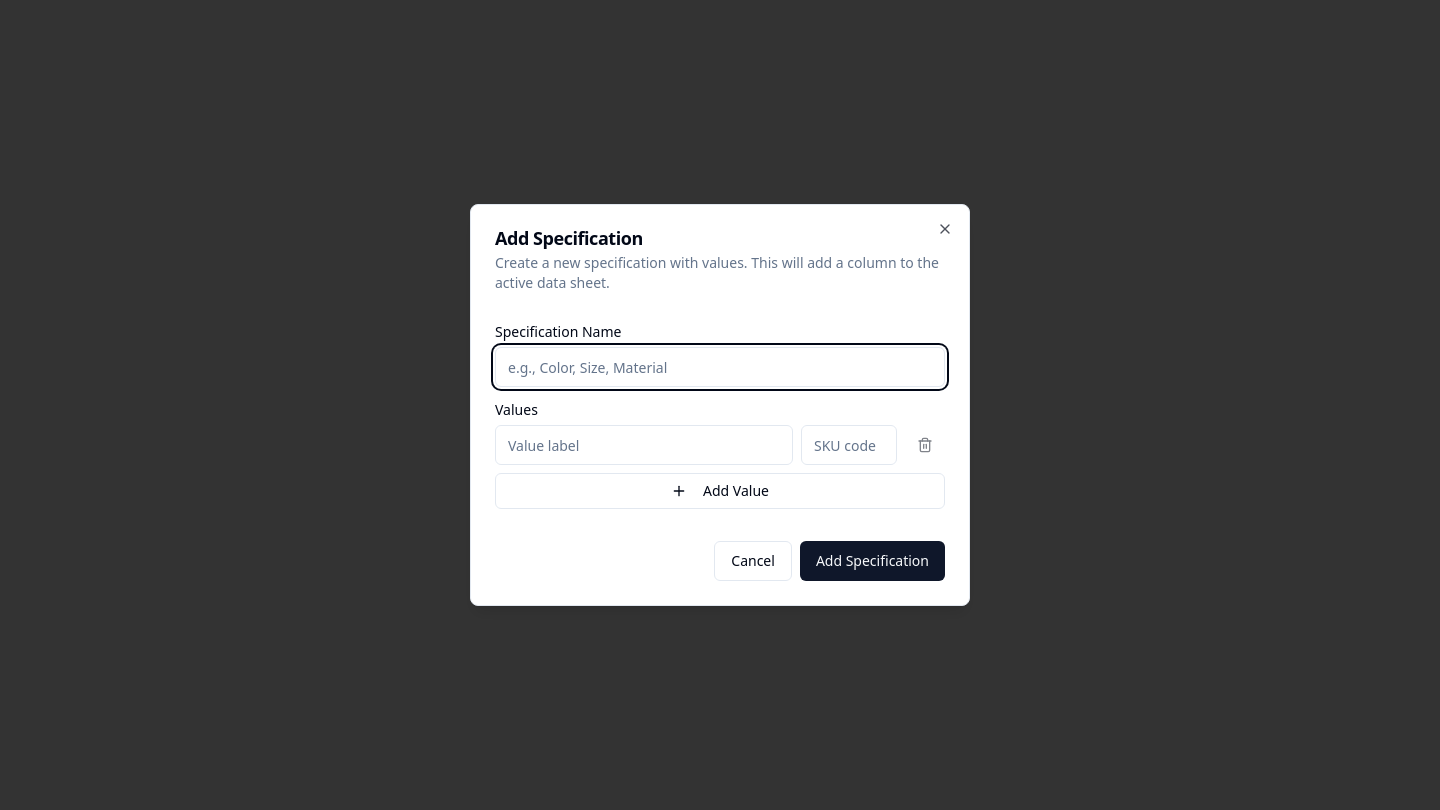
Test case: AddSpecDialog › shows error when specification name already exists
Step 1. Type "Color" into the field labelled "Specification Name" → (720, 367), box [495,347,945,387]
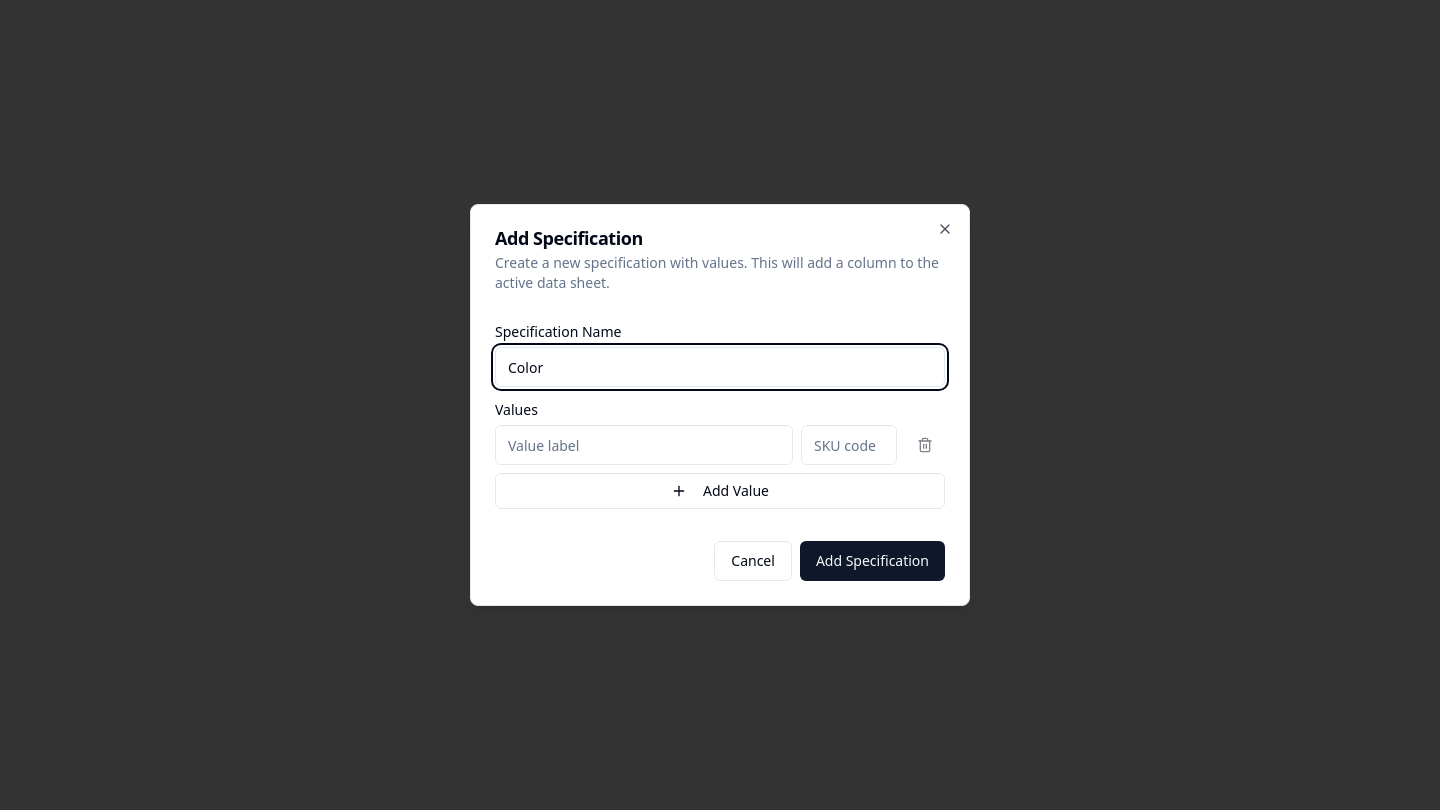
Step 2. Type "Blue" into the field named "Value 1 label" → (644, 445), box [495,425,793,465]
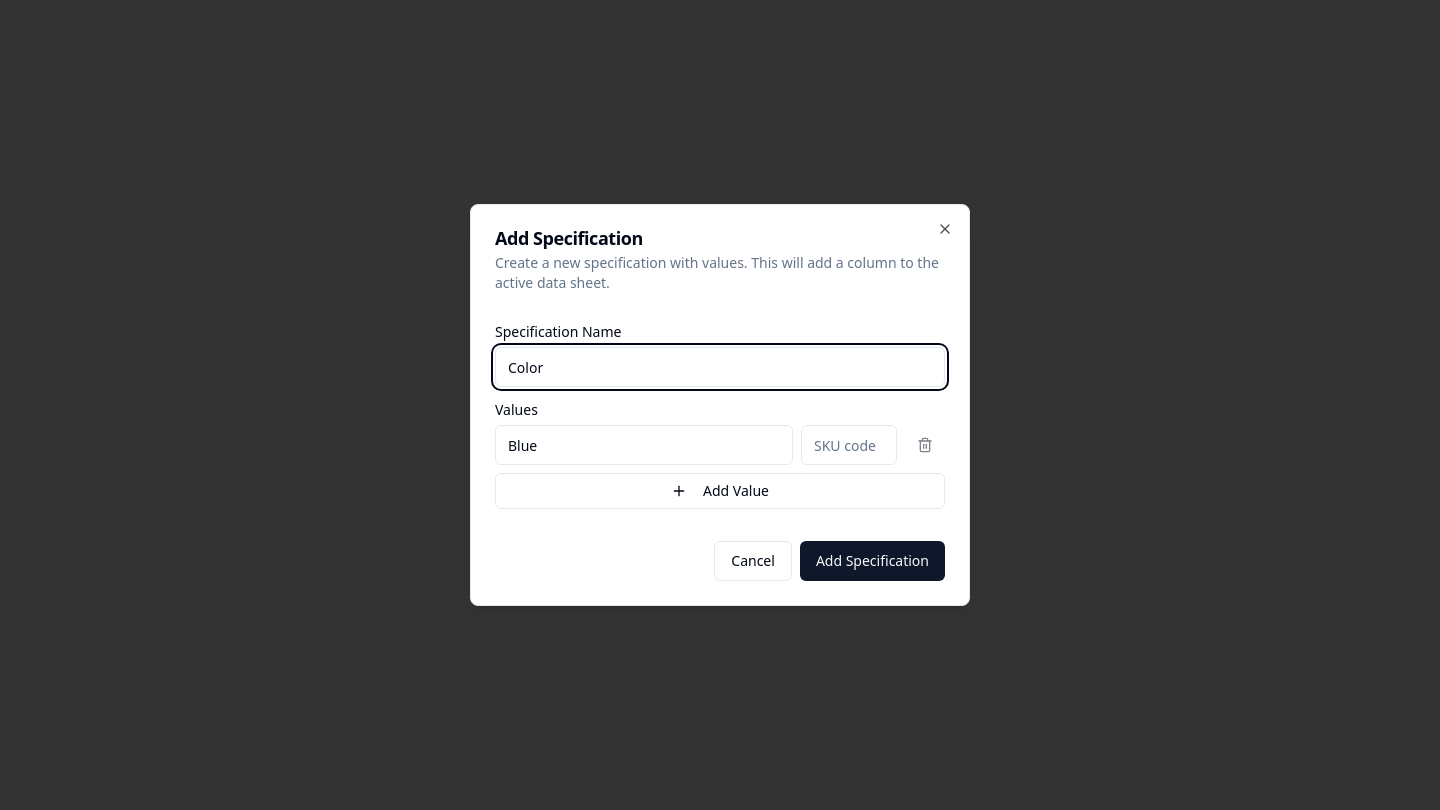
Step 3. Click the button "Add Specification" → click(872, 561), box [800,541,945,581]
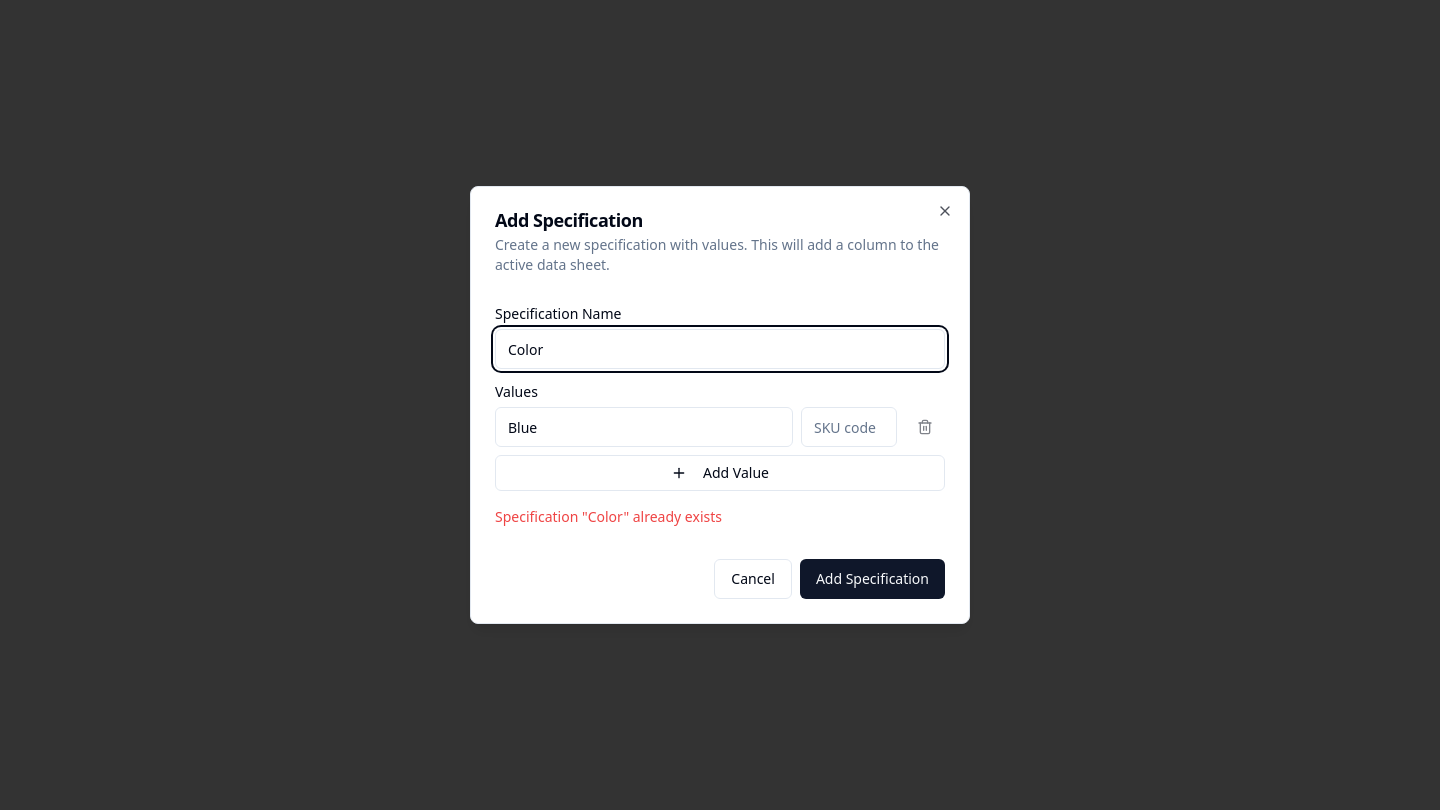
Now the message reads "Specification \"Color\" already exists", box [495,507,722,526]
